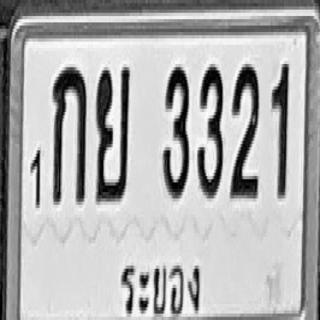A01: (52, 62, 87, 203)
A34: (95, 62, 130, 200)
N01: (271, 59, 289, 197), (30, 146, 41, 206)
N02: (230, 59, 259, 197)
N03: (162, 62, 189, 197), (197, 62, 223, 197)
P53: (118, 257, 207, 320)
